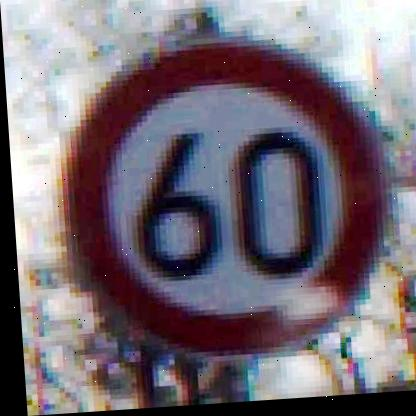Speed Limit -60-: (42, 28, 393, 372)
